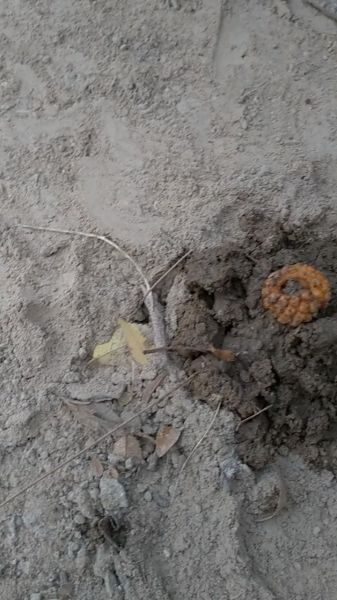eggs: (260, 260, 337, 330)
